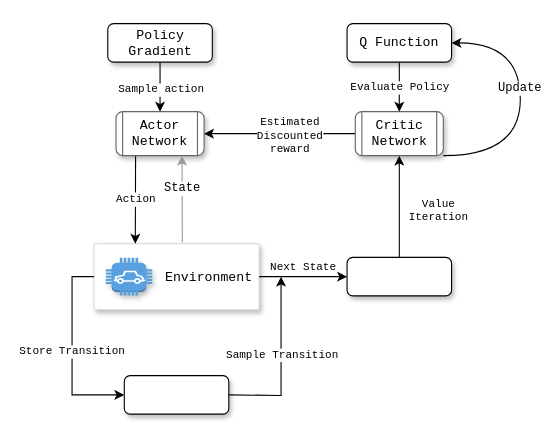
Image size: 560x441. Some labels were removed from this diagram. The shapes that lost their labels are listed below. From the top down, each one's centre as x and y in pixels, then its label:
point (400, 278): Reward Function
point (177, 396): Replay Pool
